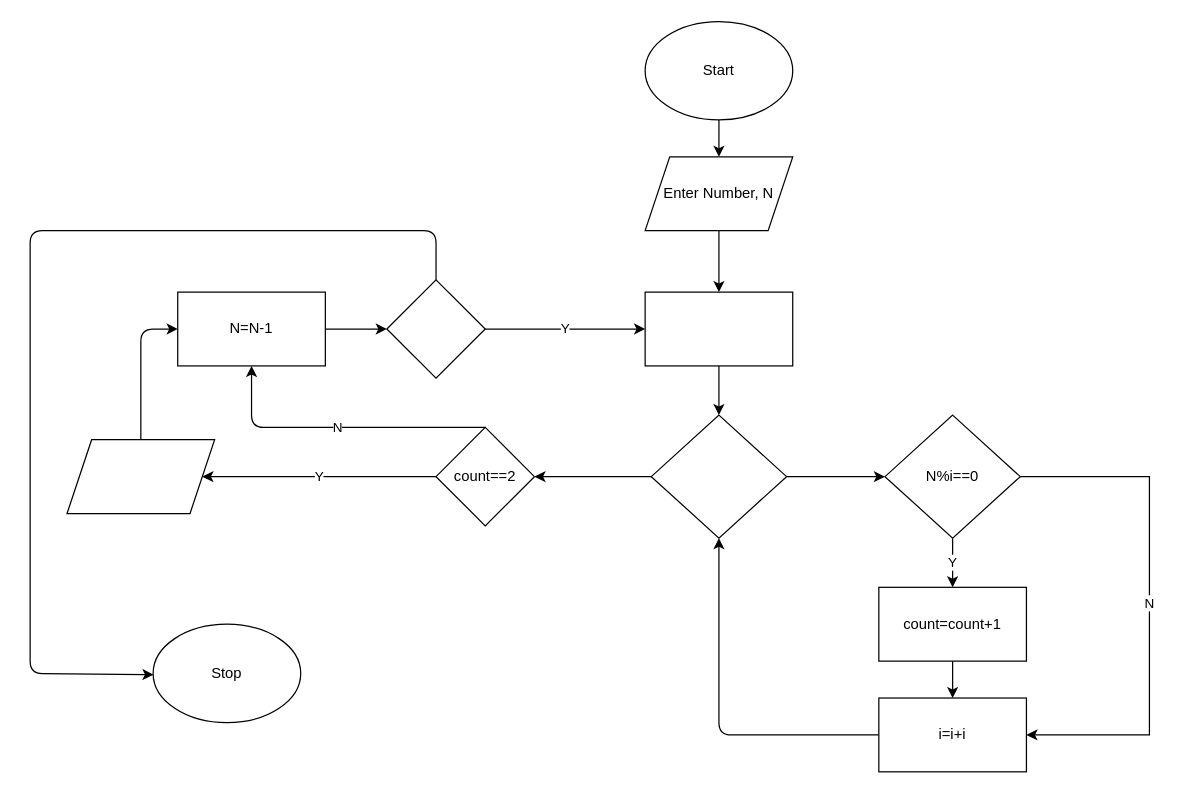
Image size: 1181x793. Some labels were removed from this diagram. The shapes that lost their labels are listed below. From the top down, each one's centre as x and y in pixels, then its label:
(x=435, y=328): N=0
(x=718, y=328): count=0 i=1
(x=140, y=476): Print N
(x=718, y=476): i<=N
